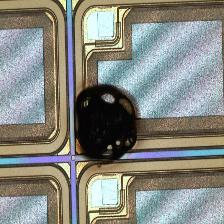PARTICLE: (68, 79, 146, 172)
